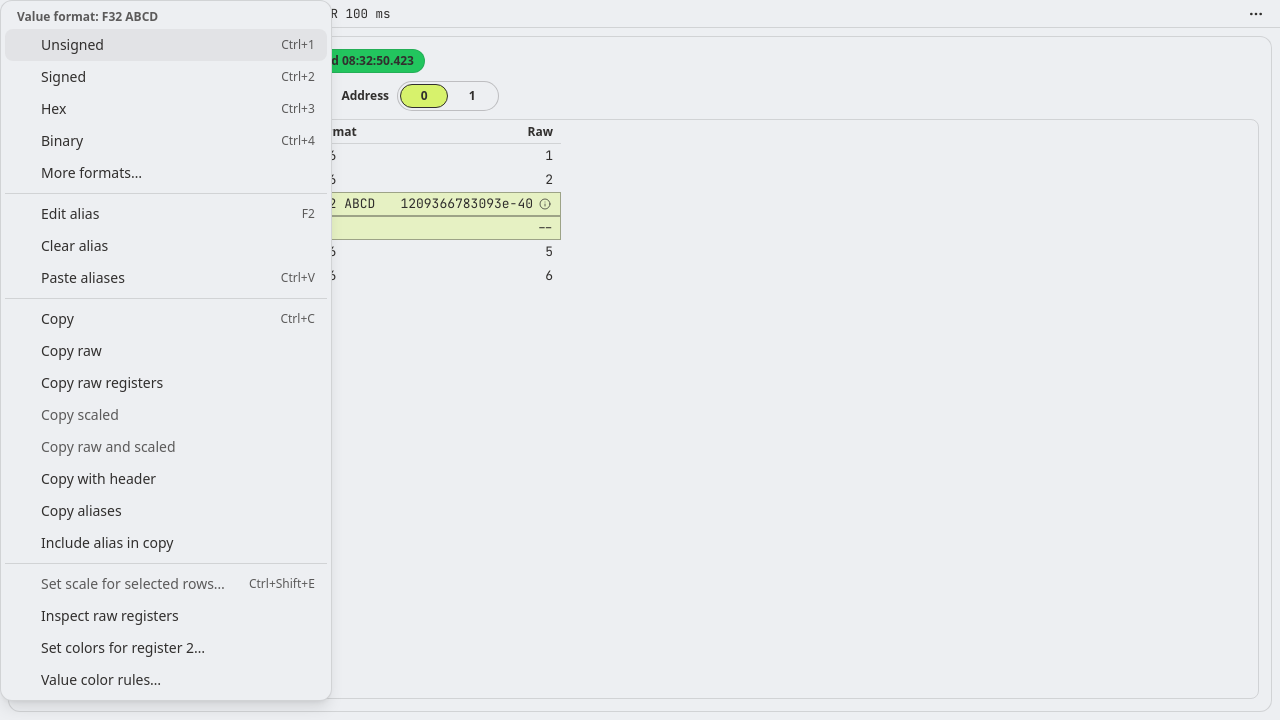
row menu of the mixed grid in workspace › Inspect raw registers opens the inspector for that row
Step 1. Click the menu item "Inspect raw registers" → click(166, 616), box [5,600,327,632]
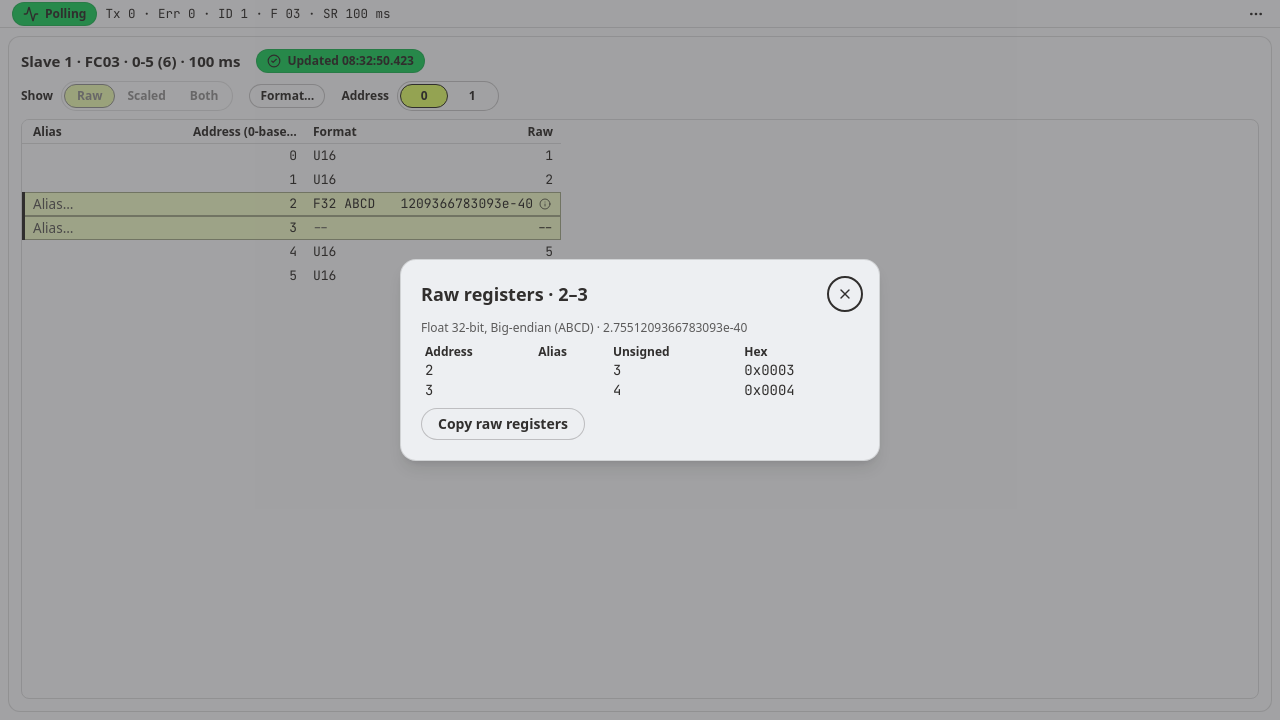
Expected: the dialog "Raw registers · 2–3" is shown, [400,259,880,461]
